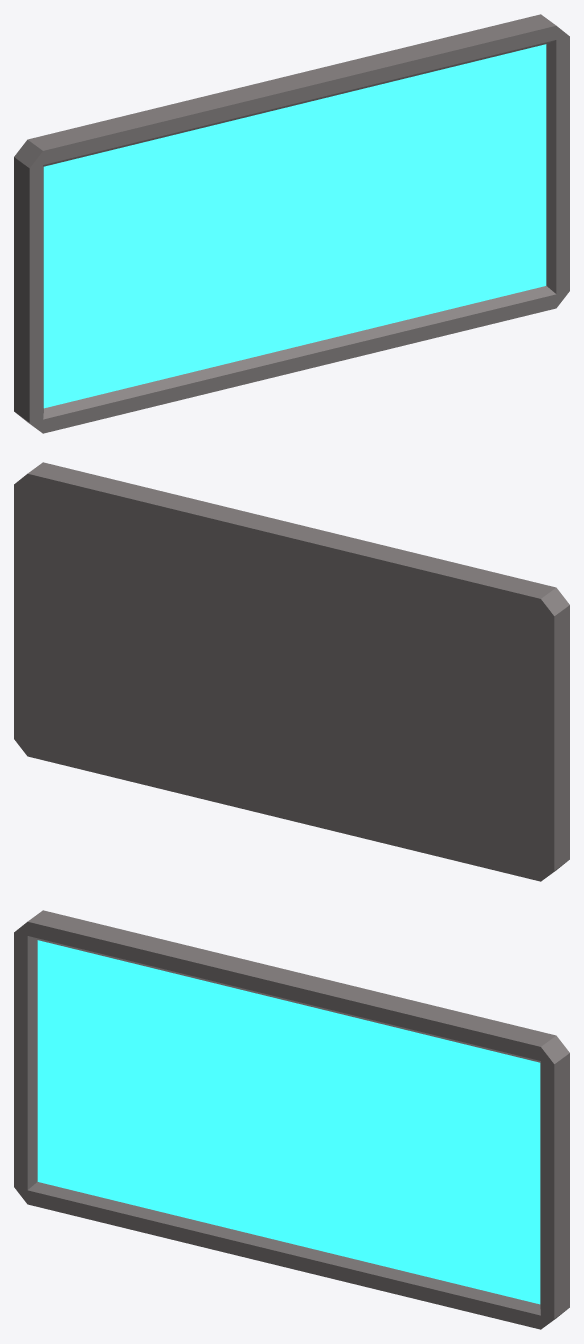
The model's file is scifi-neon-screen.glb.
The picture shows the model from 3 angles, top to bottom: view 1: azimuth 30°, elevation 25°; view 2: azimuth 150°, elevation 25°; view 3: azimuth 330°, elevation 25°; orthographic projection.
Visible parts, largest first — view 1: scifi-neon-screen; view 2: scifi-neon-screen; view 3: scifi-neon-screen.
Boxes of the visible parts, x1,y1,x2,y2 form: scifi-neon-screen: (14,14,569,433); scifi-neon-screen: (14,462,569,881); scifi-neon-screen: (14,910,569,1329).
Size of the model in its own units: 2 by 1 by 0.1.
1 material, 1 textured.
